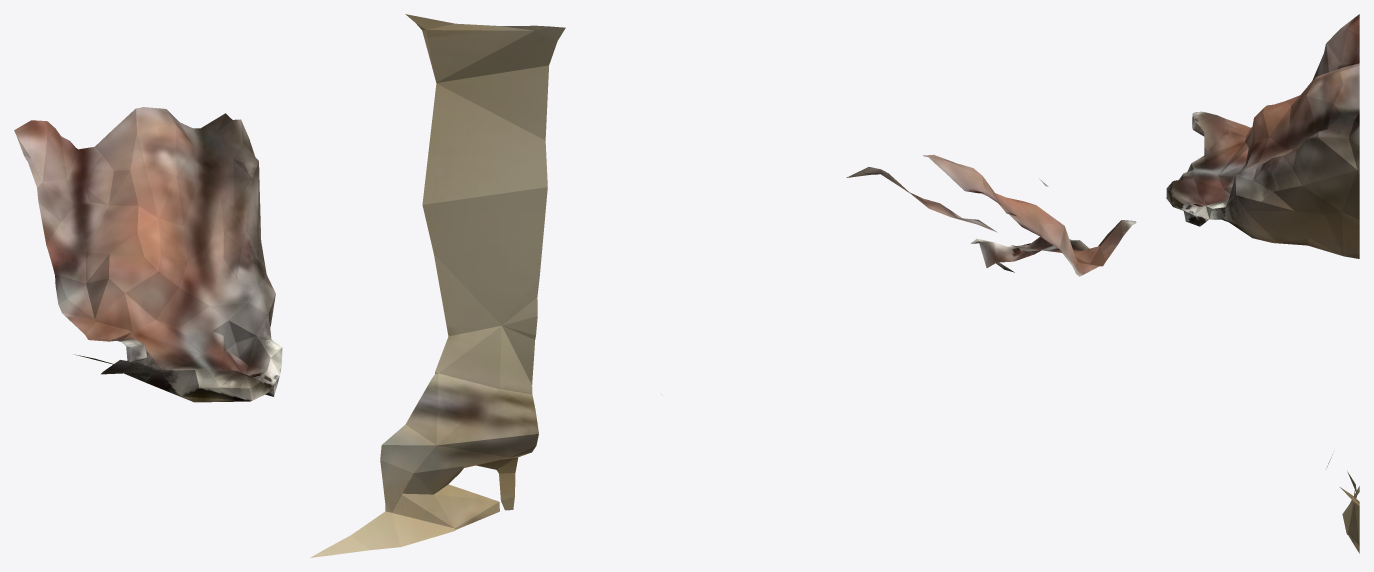
3 renders of one model, left to right at view 1: azimuth 30°, elevation 25°; view 2: azimuth 150°, elevation 25°; view 3: azimuth 270°, elevation 25°, orthographic. The views are drawn at different scales.
Size of the model in its own units: 0.8373 by 0.8374 by 0.3841.
2 materials, 2 textured.
